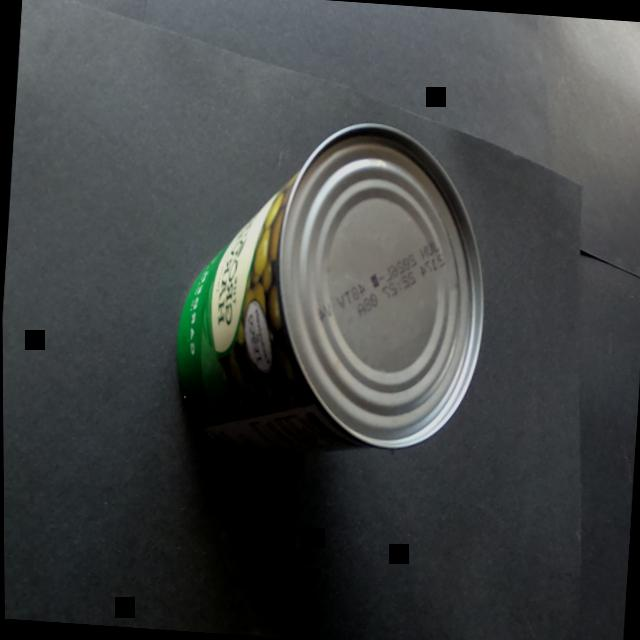Peas: (143, 100, 503, 558)
